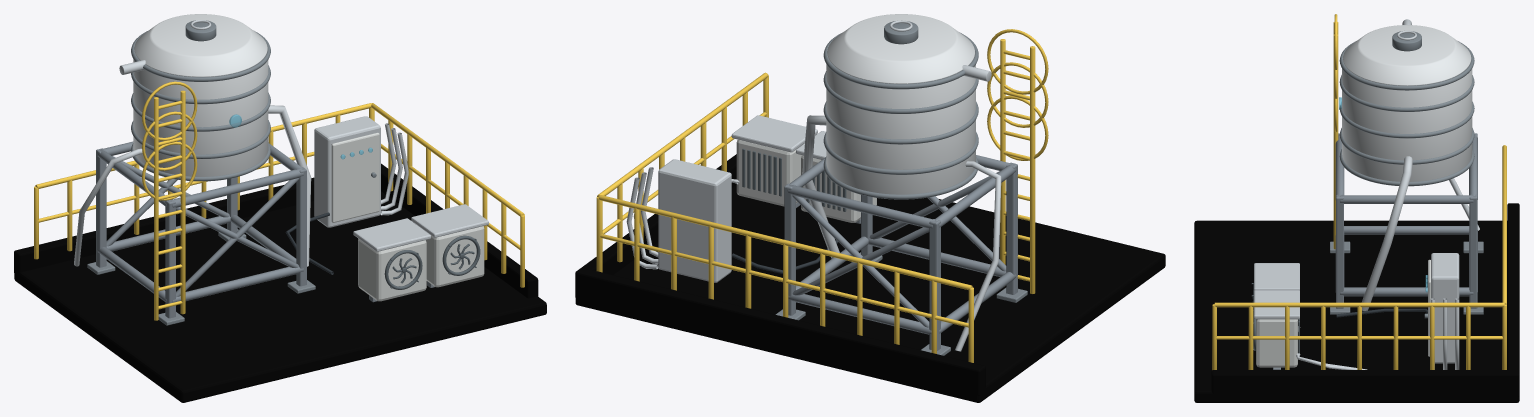
File: webtoon_rooftop_utility_platform.glb
The picture shows the model from 3 angles, left to right: view 1: azimuth 30°, elevation 25°; view 2: azimuth 150°, elevation 25°; view 3: azimuth 270°, elevation 25°; orthographic projection. The views are drawn at different scales.
Visible parts, largest first — view 1: Rooftop_Slab, webtoon_rooftop_utility_platform_Batch_10_UtilitySteel, webtoon_rooftop_utility_platform_Batch_07_SafetyYellow, WaterTank_Body, webtoon_rooftop_utility_platform_Batch_04_GalvanizedSteel, webtoon_rooftop_utility_platform_Batch_06_RooftopConcrete, WaterTank_Top, webtoon_rooftop_utility_platform_Batch_08_TankBands, Electrical_Cabinet_Door, AC_1_Body, Electrical_Cabinet, AC_2_Body (+3 smaller); view 2: Rooftop_Slab, webtoon_rooftop_utility_platform_Batch_10_UtilitySteel, webtoon_rooftop_utility_platform_Batch_07_SafetyYellow, WaterTank_Body, webtoon_rooftop_utility_platform_Batch_06_RooftopConcrete, WaterTank_Top, Electrical_Cabinet, webtoon_rooftop_utility_platform_Batch_04_GalvanizedSteel, webtoon_rooftop_utility_platform_Batch_08_TankBands, AC_2_Body, RooftopRail_Back_Top, webtoon_rooftop_utility_platform_Batch_01_ACFan (+2 smaller); view 3: Rooftop_Slab, WaterTank_Body, webtoon_rooftop_utility_platform_Batch_06_RooftopConcrete, webtoon_rooftop_utility_platform_Batch_07_SafetyYellow, webtoon_rooftop_utility_platform_Batch_10_UtilitySteel, WaterTank_Top, webtoon_rooftop_utility_platform_Batch_04_GalvanizedSteel, webtoon_rooftop_utility_platform_Batch_08_TankBands, Electrical_Cabinet, AC_2_Body, RooftopRail_Back_Top, PowerCable.
Part boxes in pixels (left/top/right/bottom): Rooftop_Slab: left=14, top=191, right=546, bottom=402; webtoon_rooftop_utility_platform_Batch_10_UtilitySteel: left=96, top=141, right=434, bottom=318; webtoon_rooftop_utility_platform_Batch_07_SafetyYellow: left=34, top=81, right=524, bottom=314; WaterTank_Body: left=133, top=59, right=268, bottom=176; webtoon_rooftop_utility_platform_Batch_04_GalvanizedSteel: left=74, top=20, right=488, bottom=266; webtoon_rooftop_utility_platform_Batch_06_RooftopConcrete: left=14, top=163, right=538, bottom=298; WaterTank_Top: left=134, top=14, right=267, bottom=76; webtoon_rooftop_utility_platform_Batch_08_TankBands: left=87, top=20, right=376, bottom=325; Electrical_Cabinet_Door: left=331, top=132, right=379, bottom=222; AC_1_Body: left=358, top=238, right=426, bottom=301; Electrical_Cabinet: left=314, top=116, right=380, bottom=227; AC_2_Body: left=423, top=226, right=484, bottom=287; Rooftop_Slab: left=575, top=185, right=1165, bottom=402; webtoon_rooftop_utility_platform_Batch_10_UtilitySteel: left=784, top=155, right=1017, bottom=350; webtoon_rooftop_utility_platform_Batch_07_SafetyYellow: left=596, top=29, right=1048, bottom=362; WaterTank_Body: left=826, top=64, right=975, bottom=194; webtoon_rooftop_utility_platform_Batch_06_RooftopConcrete: left=575, top=154, right=985, bottom=396; WaterTank_Top: left=827, top=14, right=975, bottom=83; Electrical_Cabinet: left=658, top=159, right=731, bottom=282; webtoon_rooftop_utility_platform_Batch_04_GalvanizedSteel: left=626, top=20, right=1001, bottom=351; webtoon_rooftop_utility_platform_Batch_08_TankBands: left=775, top=21, right=1027, bottom=355; AC_2_Body: left=736, top=139, right=804, bottom=206; RooftopRail_Back_Top: left=598, top=195, right=972, bottom=289; webtoon_rooftop_utility_platform_Batch_01_ACFan: left=742, top=148, right=846, bottom=211; Rooftop_Slab: left=1194, top=220, right=1519, bottom=402; WaterTank_Body: left=1342, top=69, right=1472, bottom=181; webtoon_rooftop_utility_platform_Batch_06_RooftopConcrete: left=1211, top=203, right=1519, bottom=396; webtoon_rooftop_utility_platform_Batch_07_SafetyYellow: left=1212, top=14, right=1506, bottom=369; webtoon_rooftop_utility_platform_Batch_10_UtilitySteel: left=1273, top=133, right=1477, bottom=369; WaterTank_Top: left=1342, top=25, right=1471, bottom=85; webtoon_rooftop_utility_platform_Batch_04_GalvanizedSteel: left=1254, top=19, right=1479, bottom=369; webtoon_rooftop_utility_platform_Batch_08_TankBands: left=1330, top=31, right=1483, bottom=318; Electrical_Cabinet: left=1431, top=253, right=1459, bottom=363; AC_2_Body: left=1256, top=319, right=1297, bottom=367; RooftopRail_Back_Top: left=1502, top=145, right=1506, bottom=304; PowerCable: left=1336, top=308, right=1427, bottom=317.
Size of the model in its own units: 6 by 4.21 by 4.8.
Materials: 10 (1 with a texture image).
